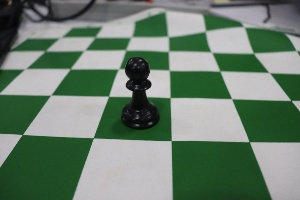black_pawn: (107, 44, 172, 142)
